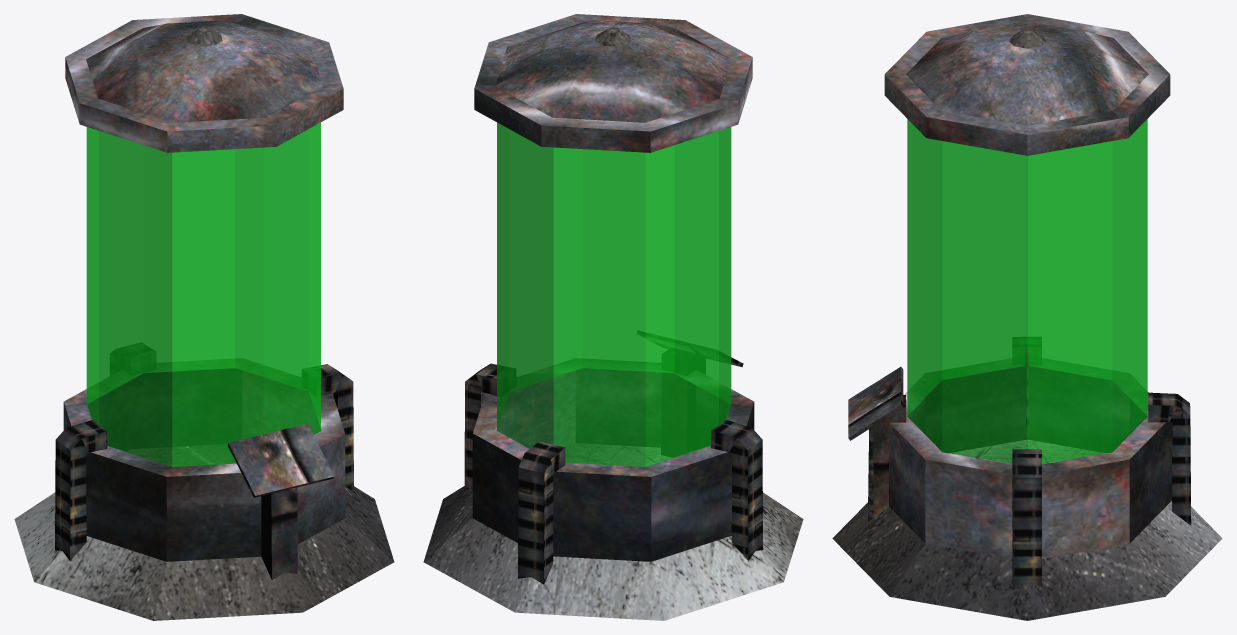
File: testtubetest1.gltf
3 renders of one model, left to right at view 1: azimuth 30°, elevation 25°; view 2: azimuth 150°, elevation 25°; view 3: azimuth 270°, elevation 25°, orthographic.
Visible parts, largest first — view 1: Cube; view 2: Cube; view 3: Cube.
Part boxes in pixels (bbox=[...]): Cube: bbox=[14, 14, 394, 620]; Cube: bbox=[423, 14, 803, 620]; Cube: bbox=[832, 14, 1222, 620].
Size of the model in its own units: 3.44 by 4.92 by 3.44.
3 materials, 2 textured.
